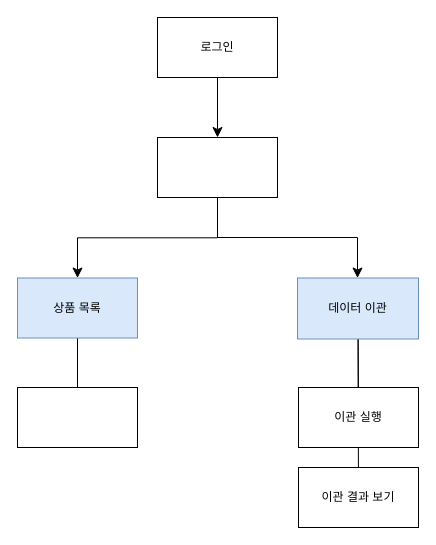
The diagram is 436 pixels wide and 545 high, and some of its shapes have lost their labels. The shapes that lost their labels are listed below. From the top down, each one's centre as x and y in pixels, then its label:
the point at 217,167: 메인화면
the point at 77,417: 전체 상품 보기
